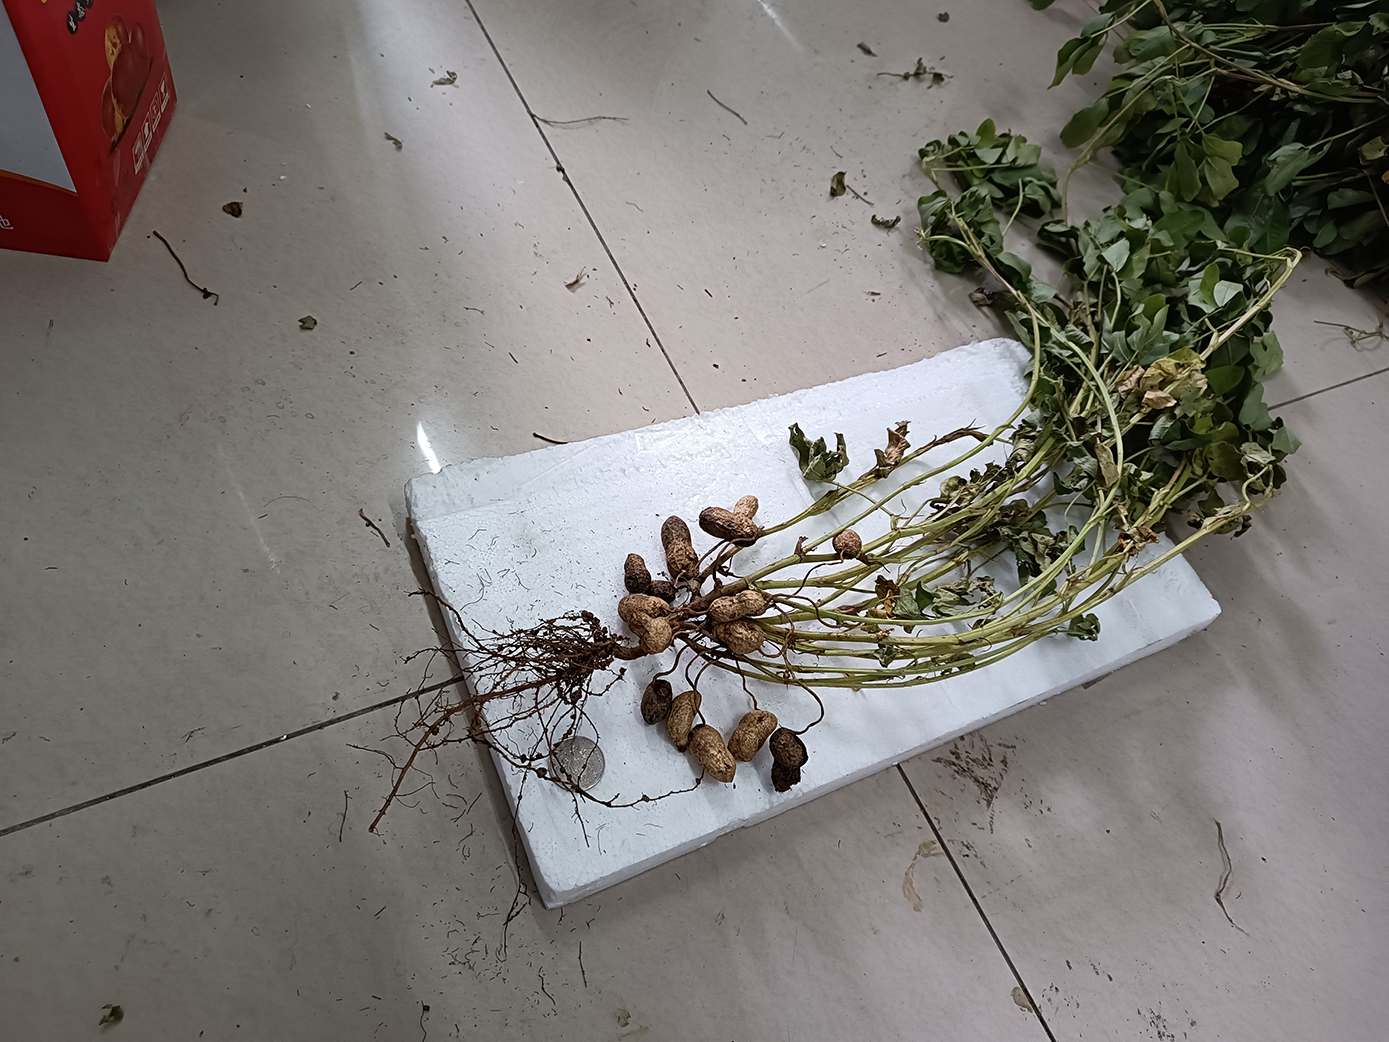h: (688, 723, 736, 783), (728, 709, 777, 759), (669, 690, 701, 750), (707, 590, 767, 620), (629, 611, 672, 652), (713, 621, 764, 655), (616, 592, 670, 623), (832, 529, 863, 558), (733, 494, 761, 518)
l: (659, 514, 699, 580), (769, 727, 807, 794), (701, 506, 760, 544), (641, 679, 675, 723), (625, 551, 649, 590), (648, 579, 673, 598)
